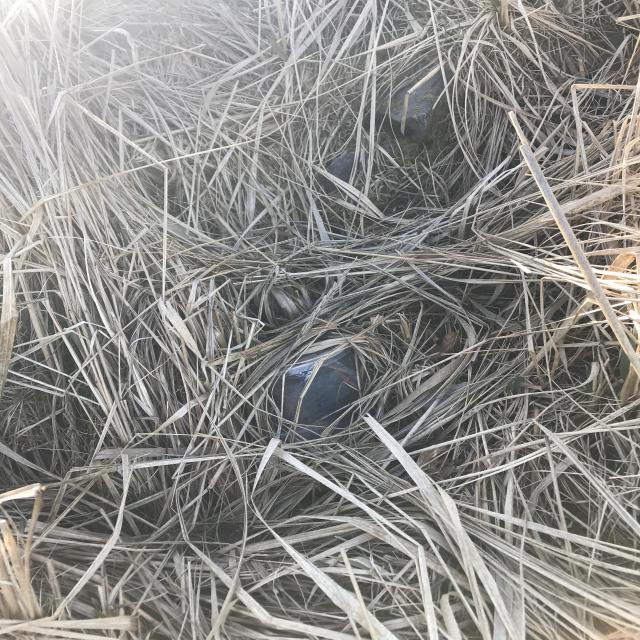litter: (265, 350, 369, 440)
